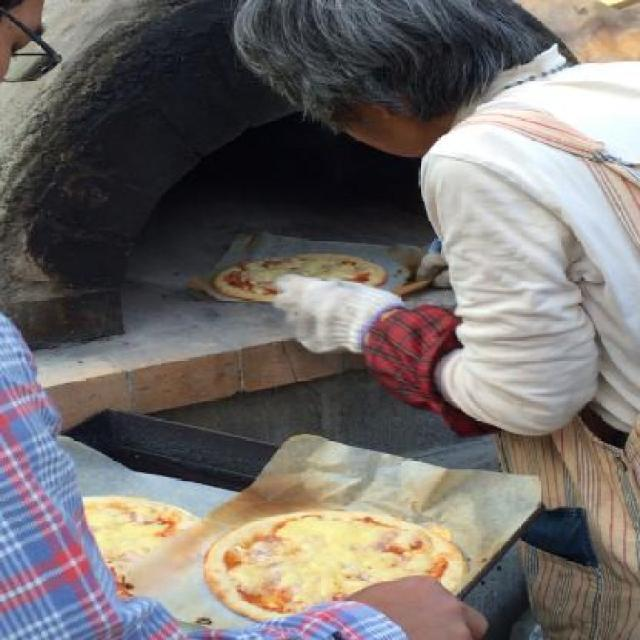Pizza: (215, 509, 462, 622), (86, 490, 197, 570), (227, 254, 384, 288)
